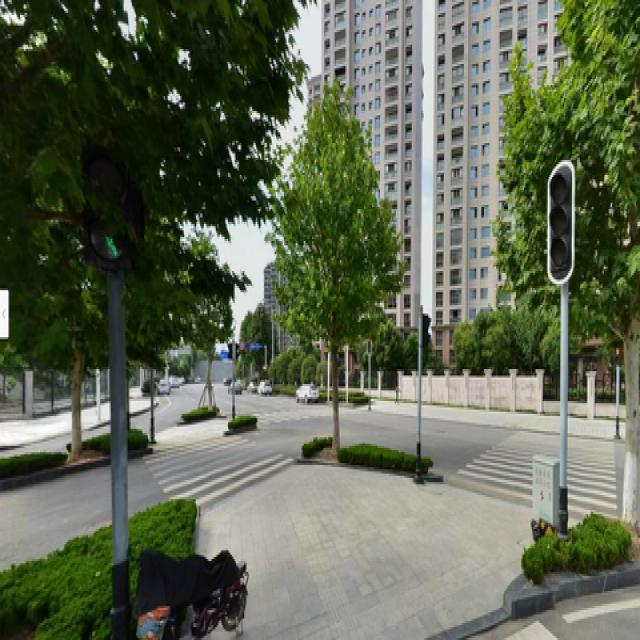meta: (289, 100, 388, 448)
